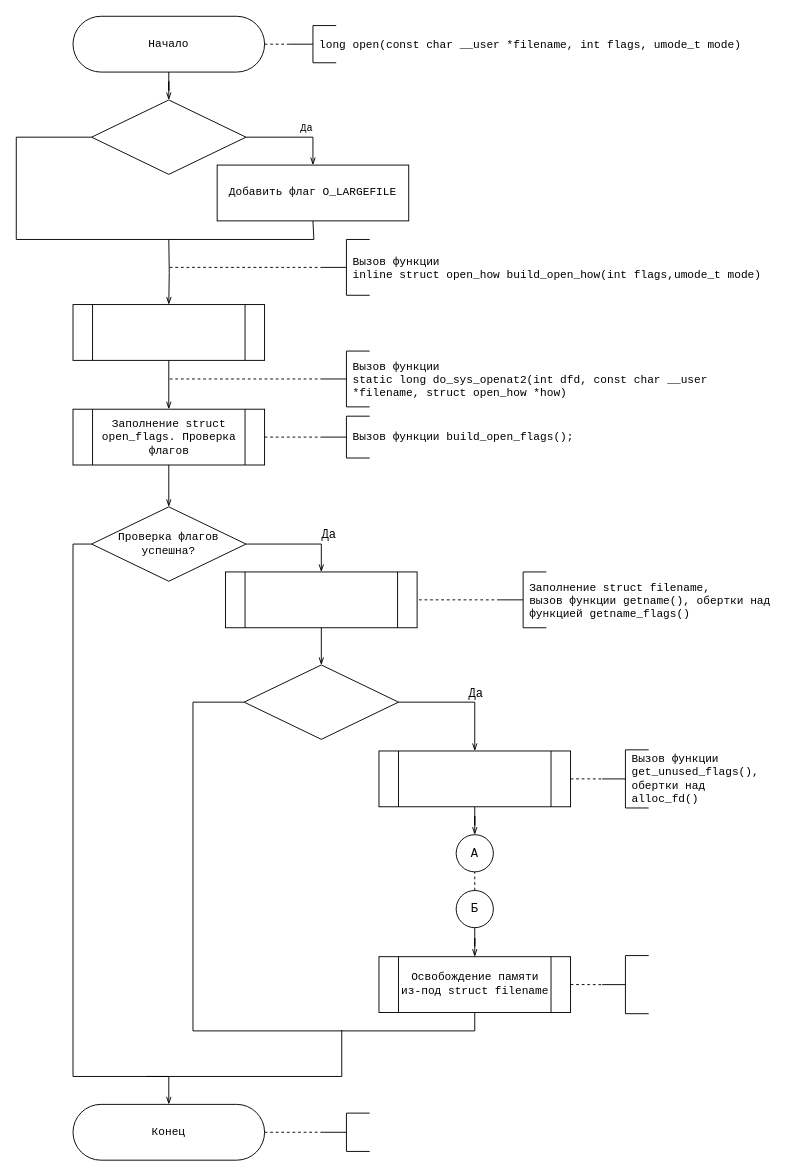
The diagram is 787 pixels wide and 1176 high, and some of its shapes have lost their labels. The shapes that lost their labels are listed below. From the top down, each one's centre as x and y in pixels, then its label:
[168,136]: Система 64-х разрядная?
[168,332]: Вызов функции build_open_how()
[321,599]: Копирование имени файла из пространства пользователя в пространство ядра
[321,701]: Копирование успешно?
[474,778]: Поиск свободного файлового дескриптора и пометка его как занятого
[625,984]: Вызов функции putname()
[346,1131]: Возврат fd
